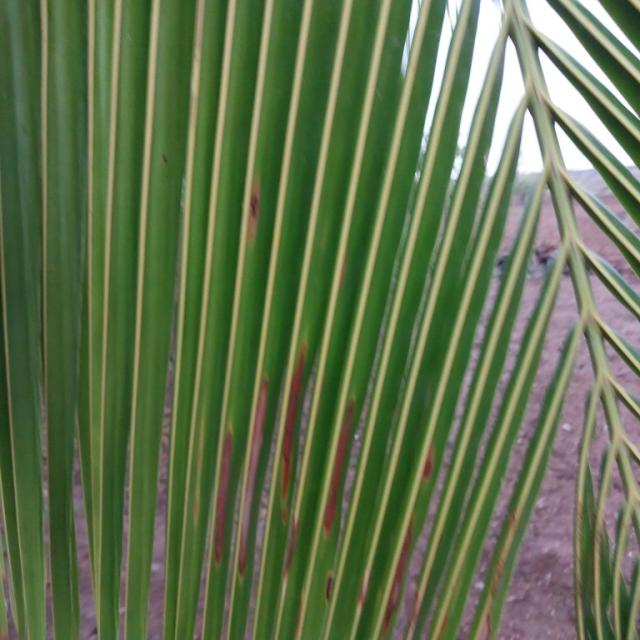gray leaf spot: (212, 123, 307, 640), (267, 342, 338, 640), (238, 366, 305, 639), (388, 428, 468, 639), (489, 477, 559, 640), (330, 399, 386, 544)
